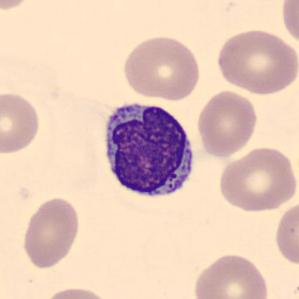Lymphocyte: (97, 95, 200, 206)
RBC: (214, 26, 298, 96), (119, 33, 202, 101), (216, 144, 297, 213), (20, 195, 82, 270), (194, 88, 260, 158), (190, 250, 271, 299), (0, 90, 43, 156), (272, 198, 299, 268), (41, 285, 114, 299), (279, 0, 298, 48), (0, 0, 36, 11)
